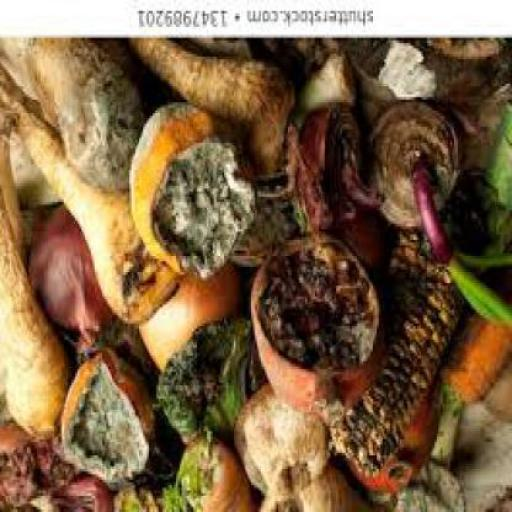biodegradable: (1, 37, 511, 511), (2, 62, 181, 332), (330, 194, 490, 479), (131, 38, 303, 200), (254, 231, 384, 426), (131, 106, 259, 282), (2, 41, 144, 197), (2, 161, 73, 442), (417, 152, 511, 330), (272, 44, 512, 108), (27, 202, 118, 352), (158, 318, 259, 450), (64, 350, 159, 488), (158, 318, 259, 445), (141, 270, 249, 385), (368, 105, 464, 232), (236, 386, 330, 504), (444, 258, 511, 418), (300, 108, 361, 237), (462, 102, 510, 254), (2, 420, 79, 509), (122, 442, 221, 511), (444, 176, 508, 278), (290, 54, 359, 143), (181, 439, 261, 511), (255, 469, 386, 511), (328, 210, 392, 280), (367, 466, 466, 511), (2, 474, 114, 512), (161, 439, 219, 511), (337, 145, 388, 222), (238, 202, 299, 266), (2, 120, 29, 254), (170, 40, 284, 65), (434, 413, 464, 477), (485, 363, 511, 430)
